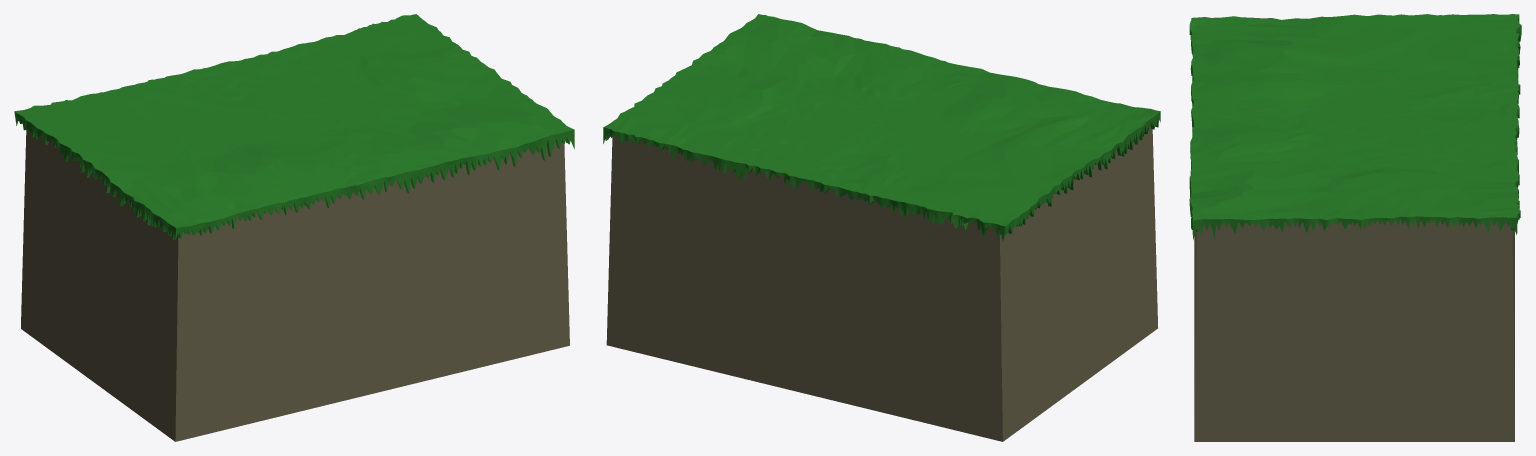
Rendered from grass_layer_square_giant.fbx.
3 views of the same model, side by side, from view 1: azimuth 30°, elevation 25°; view 2: azimuth 150°, elevation 25°; view 3: azimuth 270°, elevation 25° (orthographic). The views are drawn at different scales.
Visible parts, largest first — view 1: grass_layer_square_giant_base, grass_layer_square_giant; view 2: grass_layer_square_giant_base, grass_layer_square_giant; view 3: grass_layer_square_giant_base, grass_layer_square_giant.
Boxes of the visible parts, <box> form: grass_layer_square_giant_base: <box>21,130,569,441</box>; grass_layer_square_giant: <box>14,14,574,239</box>; grass_layer_square_giant_base: <box>606,126,1157,441</box>; grass_layer_square_giant: <box>603,14,1160,241</box>; grass_layer_square_giant_base: <box>1194,220,1514,441</box>; grass_layer_square_giant: <box>1189,14,1521,239</box>.
Bounding box in the file's own units: 3118 × 1607 × 2136.
